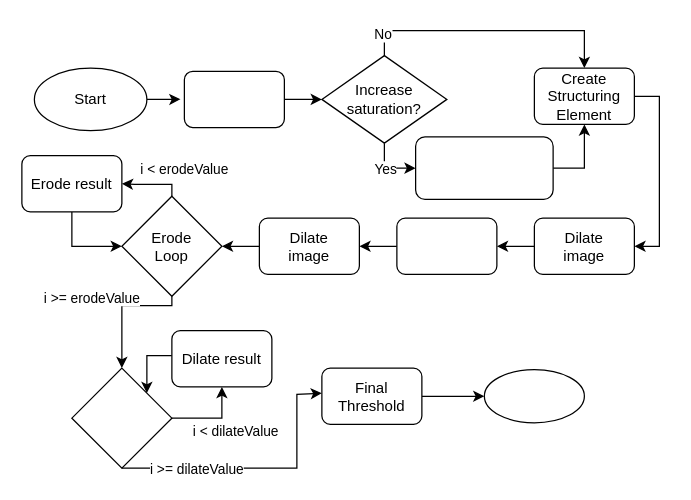
This 691x500 diagram has some shape labels left out. Each missing label, with the box of its shape:
ColoredPixels: (183, 70, 284, 128)
Dilate Loop: (71, 367, 172, 468)
IncreaseSaturation: (414, 136, 553, 199)
Return result: (483, 368, 584, 423)
Threshold image: (396, 217, 497, 274)
